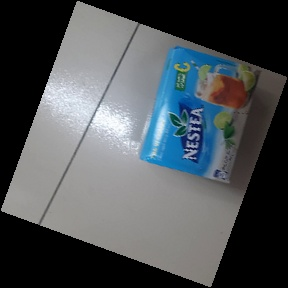Nestea: (133, 45, 257, 186)
